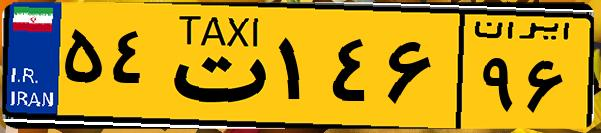1: (270, 28, 330, 110)
4: (330, 28, 385, 110), (110, 28, 158, 98)
5: (57, 26, 110, 100)
6: (385, 28, 445, 110), (525, 38, 570, 115)
9: (475, 38, 525, 113)
ت: (158, 12, 270, 120)
